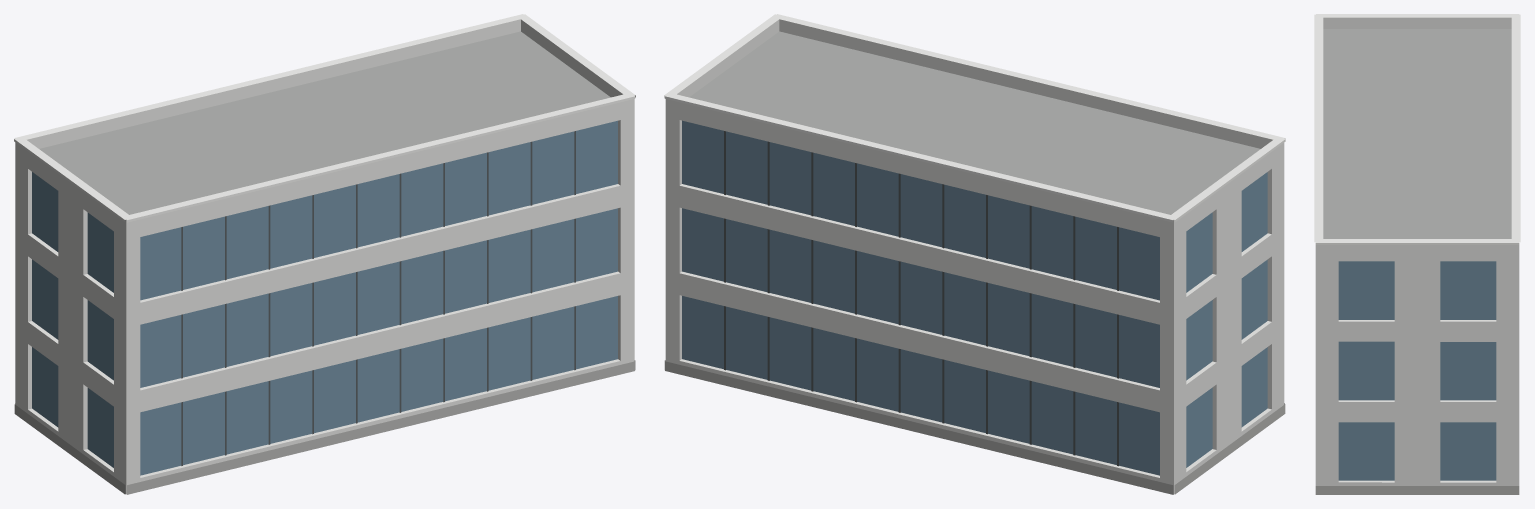
3 renders of one model, left to right at view 1: azimuth 30°, elevation 25°; view 2: azimuth 150°, elevation 25°; view 3: azimuth 270°, elevation 25°, orthographic. The views are drawn at different scales.
Parts seen in each view (by area): view 1: press__glass, press__wall, press__roof, press__parapet, press__trim, press__base, press__frame; view 2: press__glass, press__wall, press__roof, press__parapet, press__trim, press__base, press__frame; view 3: press__roof, press__wall, press__glass, press__trim, press__parapet, press__base.
Boxes of the visible parts, x1=… form: press__glass: x1=32, y1=120, x2=617, y2=475; press__wall: x1=15, y1=108, x2=634, y2=494; press__roof: x1=39, y1=31, x2=610, y2=214; press__parapet: x1=15, y1=19, x2=634, y2=231; press__trim: x1=14, y1=14, x2=635, y2=222; press__base: x1=14, y1=360, x2=635, y2=494; press__frame: x1=181, y1=131, x2=575, y2=465; press__glass: x1=682, y1=120, x2=1267, y2=475; press__wall: x1=665, y1=108, x2=1284, y2=494; press__roof: x1=689, y1=31, x2=1260, y2=214; press__parapet: x1=665, y1=19, x2=1284, y2=231; press__trim: x1=664, y1=14, x2=1285, y2=222; press__base: x1=664, y1=360, x2=1285, y2=494; press__frame: x1=724, y1=131, x2=1118, y2=466; press__roof: x1=1323, y1=29, x2=1511, y2=238; press__wall: x1=1315, y1=253, x2=1519, y2=485; press__glass: x1=1338, y1=261, x2=1496, y2=480; press__trim: x1=1314, y1=14, x2=1520, y2=244; press__parapet: x1=1315, y1=17, x2=1519, y2=253; press__base: x1=1315, y1=486, x2=1519, y2=494.
Bounding box in the file's own units: 21.98 × 11.3 × 8.37.
